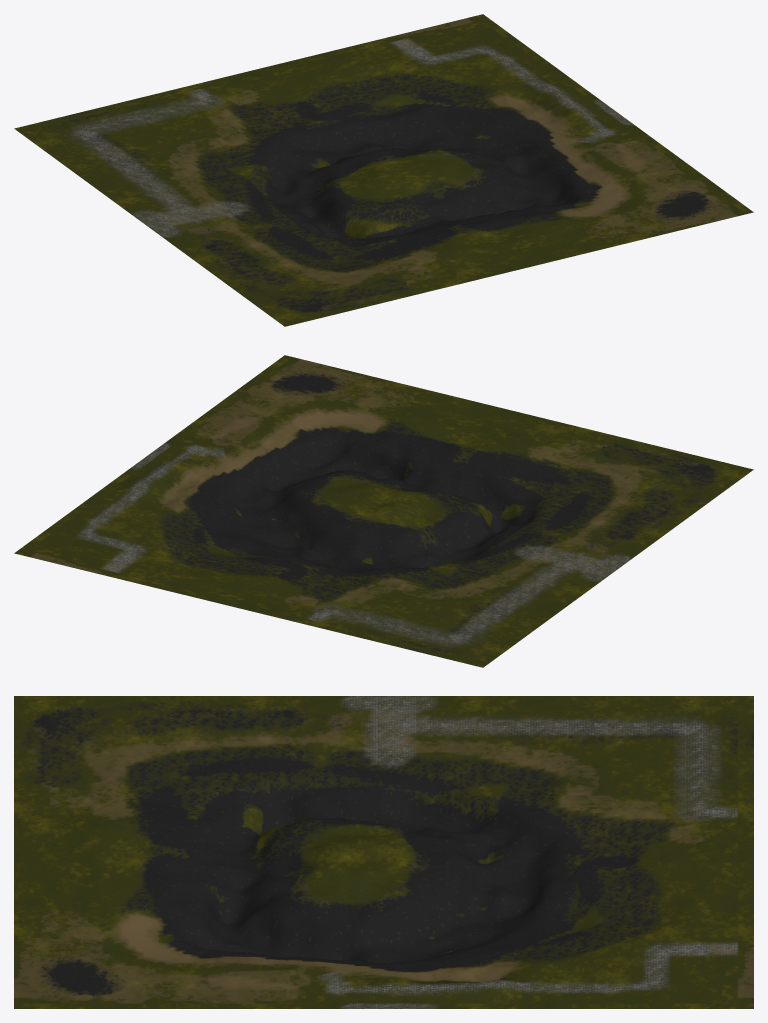
Rendered from Ground_Map_6.fbx.
3 views of the same model, one above another, from view 1: azimuth 30°, elevation 25°; view 2: azimuth 150°, elevation 25°; view 3: azimuth 270°, elevation 25° (orthographic). The views are drawn at different scales.
Visible parts, largest first — view 1: Ground_Map_6; view 2: Ground_Map_6; view 3: Ground_Map_6.
Part boxes in pixels (<box>): Ground_Map_6: <box>14,14,753,326</box>; Ground_Map_6: <box>14,355,753,667</box>; Ground_Map_6: <box>14,696,753,1008</box>.
Bounding box in the file's own units: 9000 × 634 × 9000.
